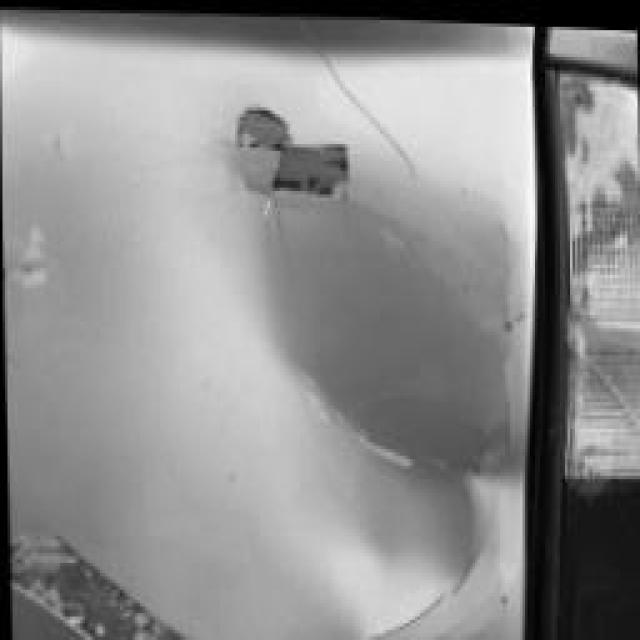Dickey: (0, 0, 548, 640)
Light: (560, 281, 640, 462)
